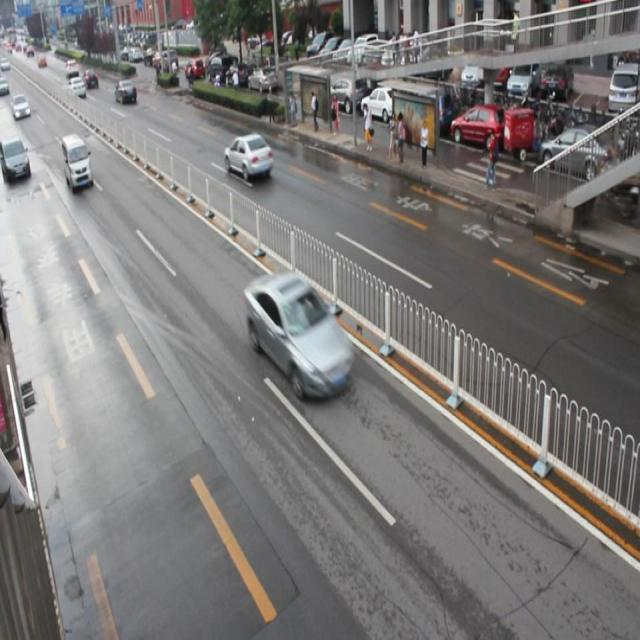car: (244, 272, 355, 399), (224, 130, 273, 180)
truck: (63, 131, 93, 191)
